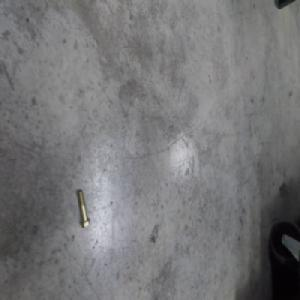Bolt: (76, 187, 90, 228)
